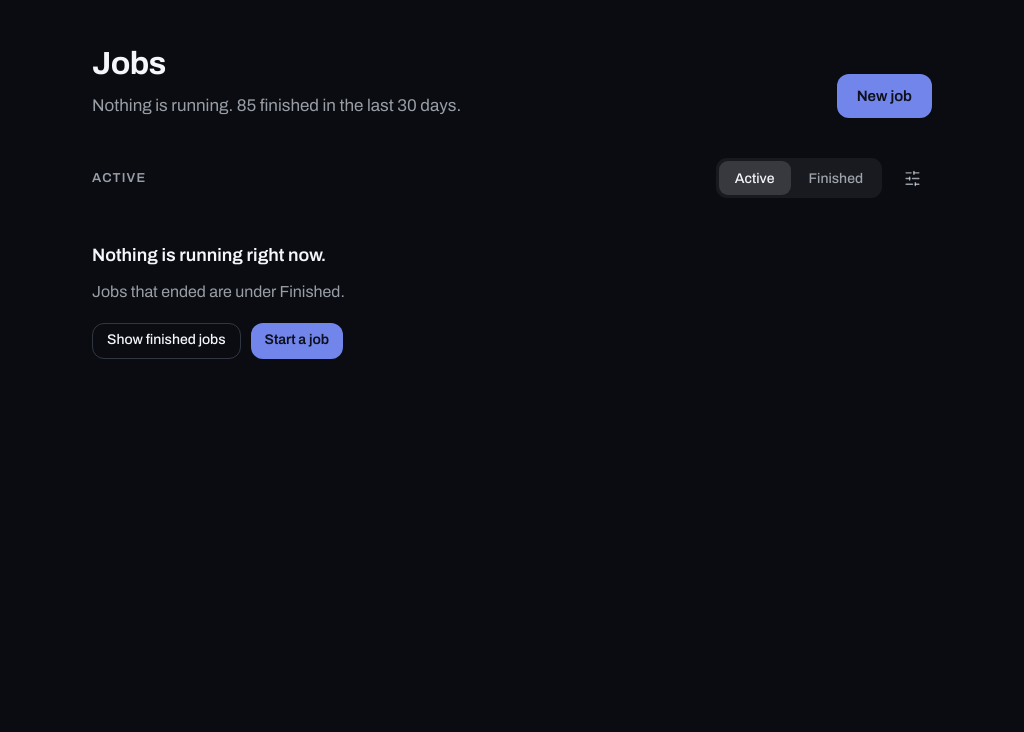
Test: Jobs page › shows 40 rows at a time and expands to the next page
Click the radio button with test id "desk-runs-group-finished".
click(836, 178)  # box x1=792 y1=161 x2=879 y2=195
(page scrolled)
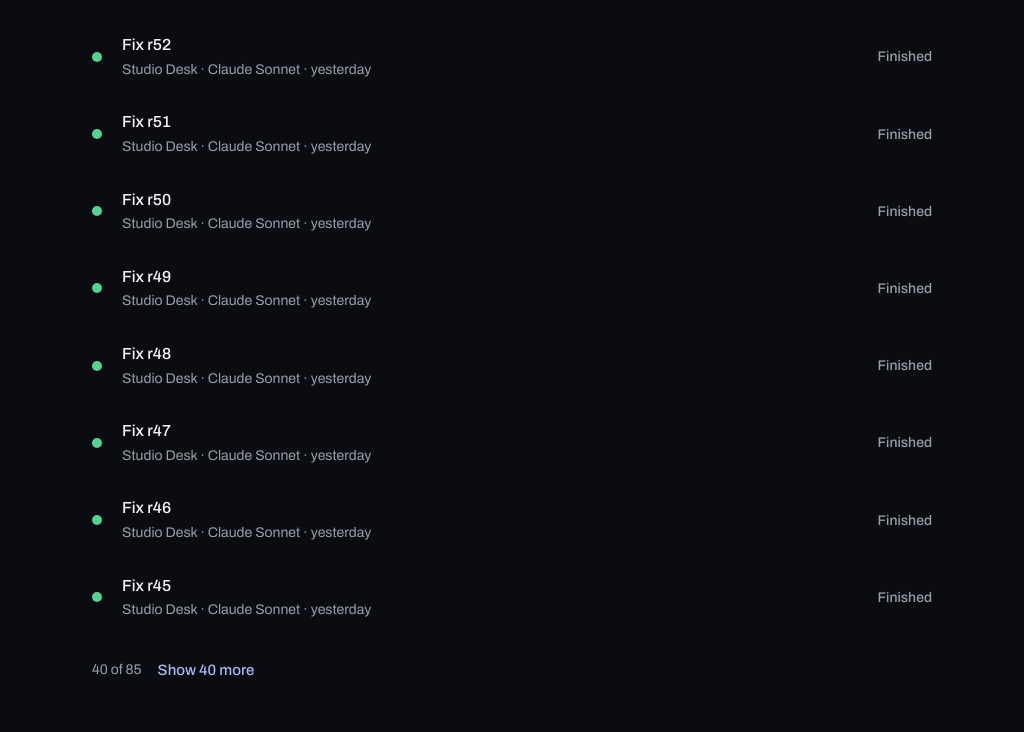
Expected: the text with test id "desk-runs-count" reads "40 of 85", x1=92 y1=662 x2=142 y2=677
Click the button with test id "desk-runs-more".
click(206, 670)  # box x1=150 y1=654 x2=262 y2=686
(page scrolled)
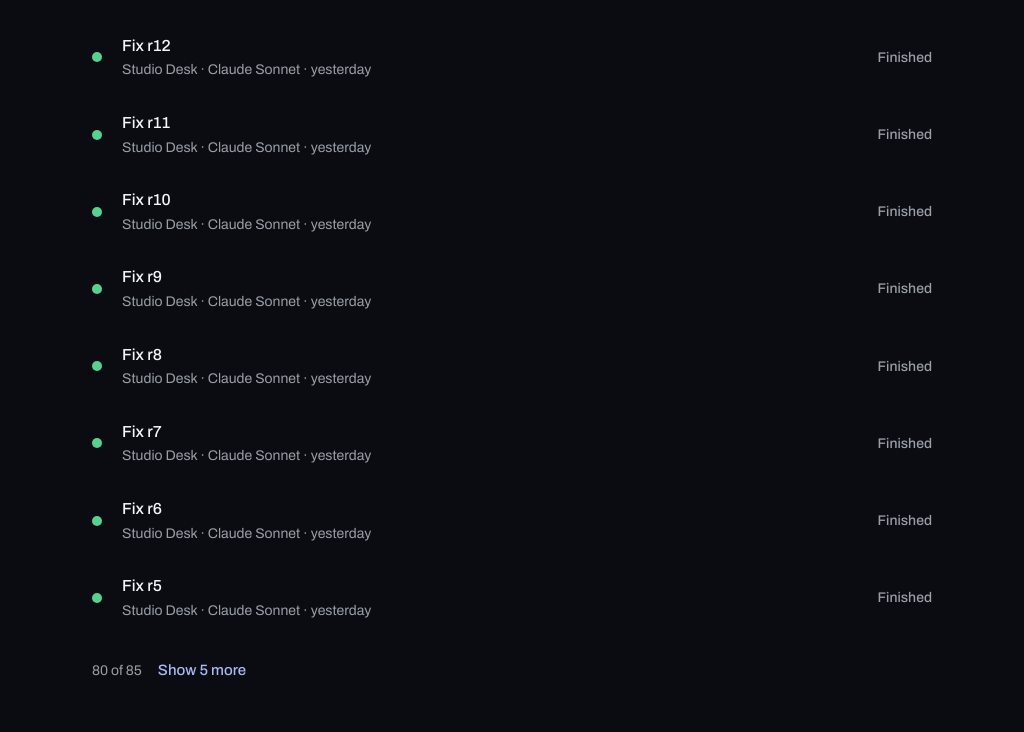
Expected: the text with test id "desk-runs-count" reads "80 of 85", x1=92 y1=663 x2=142 y2=678
Click the button with test id "desk-runs-more".
click(202, 670)  # box x1=150 y1=654 x2=254 y2=686
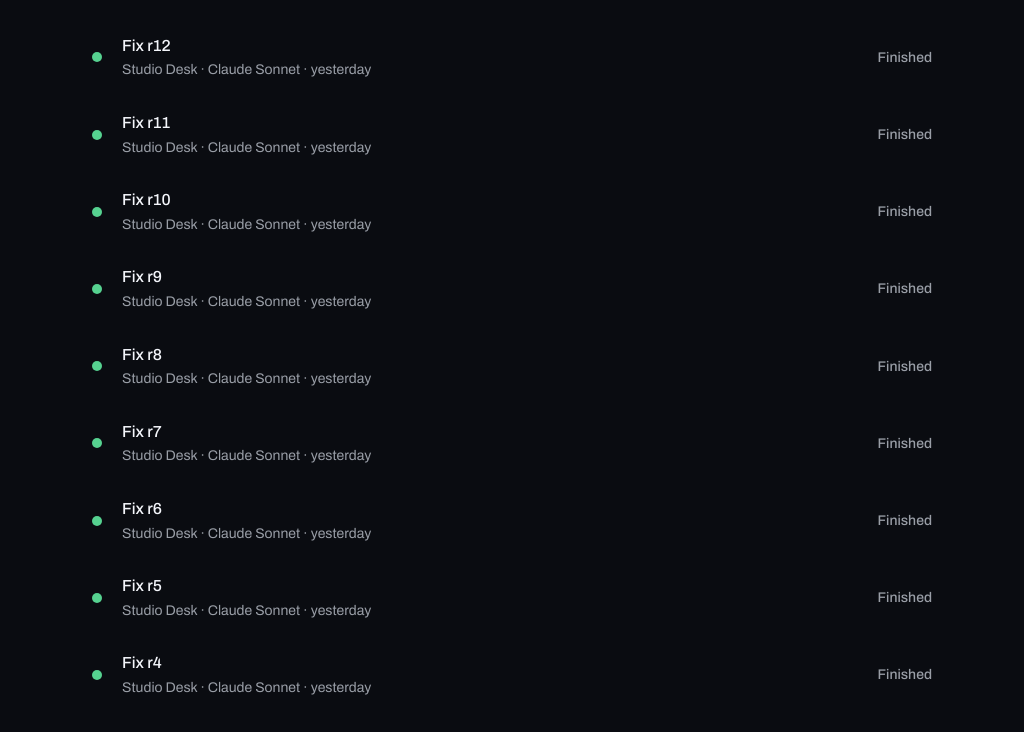
Expected: the button with test id "desk-runs-more" is gone
